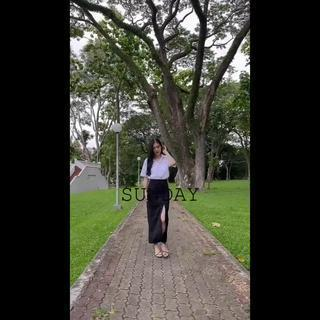Tshirt: (140, 154, 176, 181)
skirt: (137, 177, 182, 245)
